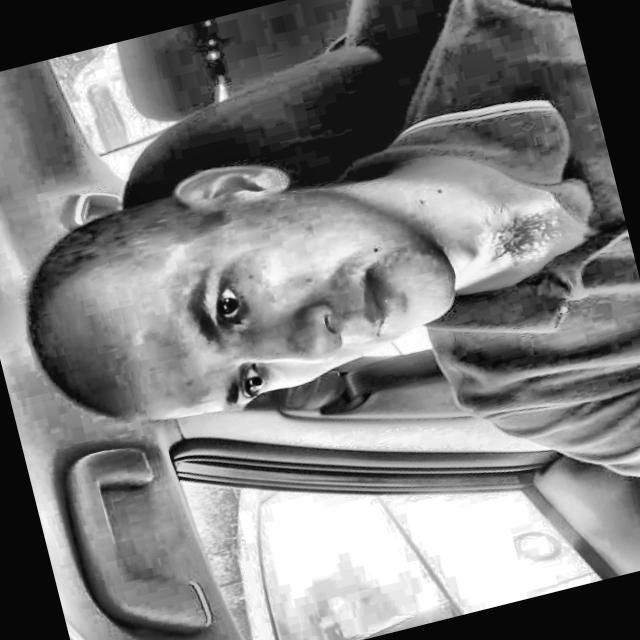closed_mouth: (344, 248, 425, 359)
open_eyes: (192, 273, 256, 343), (225, 353, 281, 408)
